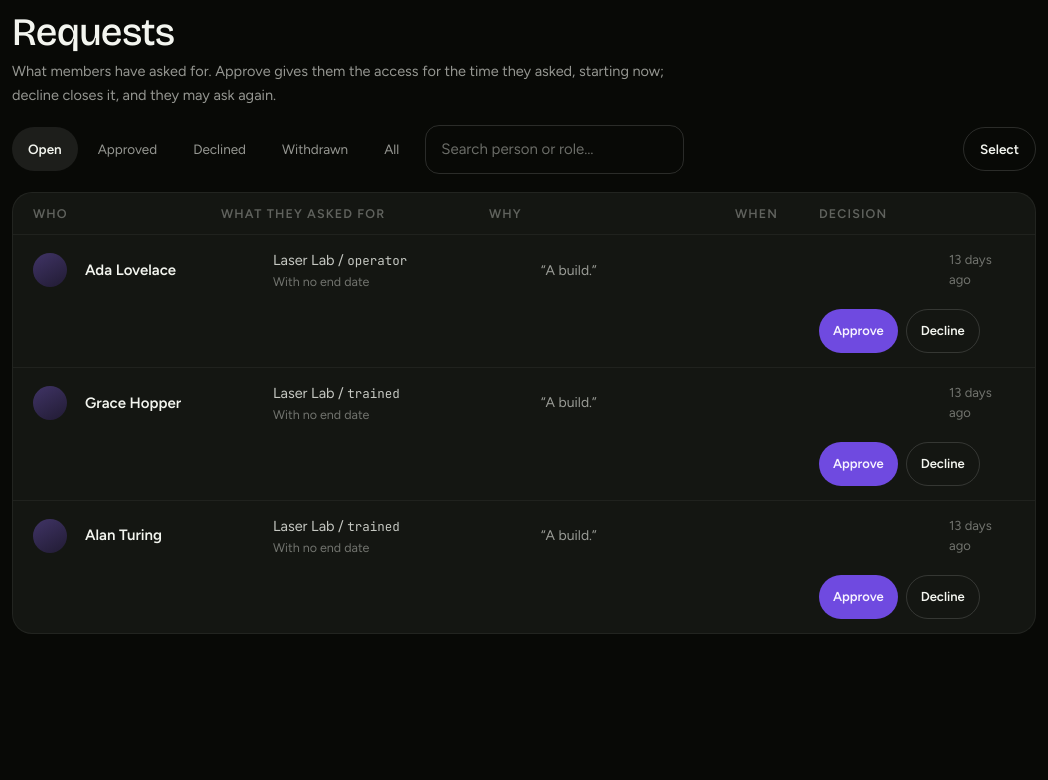
Test: the queue's search › finds a request by the role asked for
Type "bandsaw" into the field named "Search requests" at (555, 149), box [425,125,684,174]
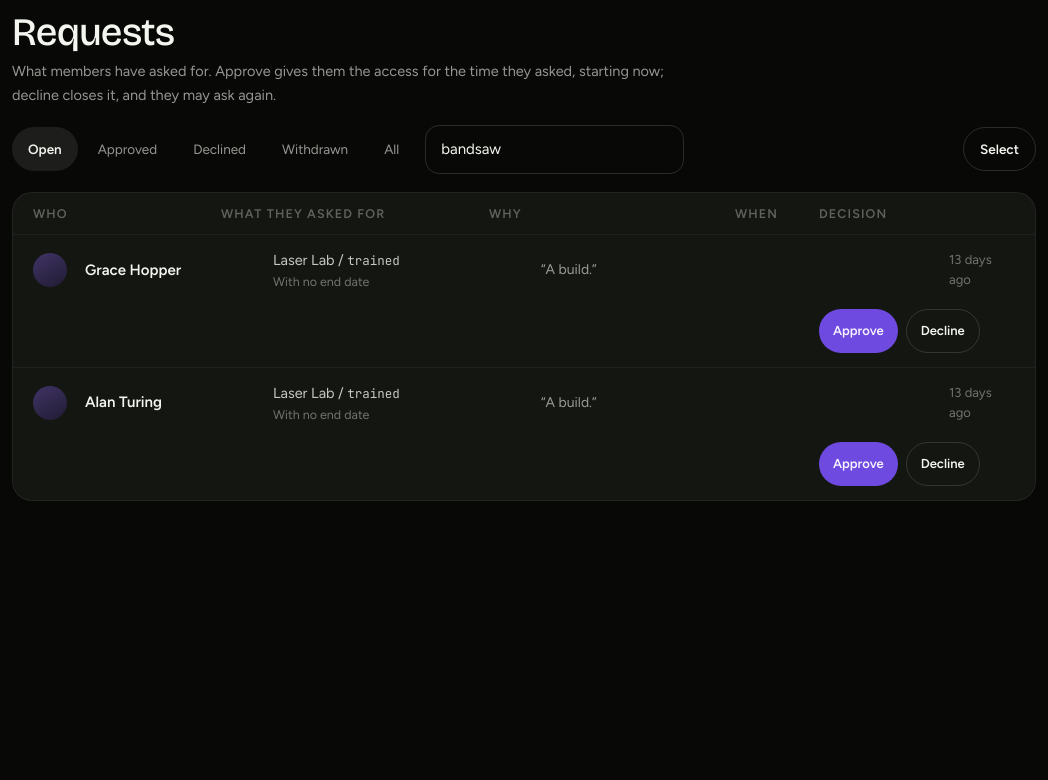
Expected: the number of buttons "Approve" is 2, [819,309,898,353]; [819,442,898,486]
Expected: the text "Ada Lovelace" is gone
